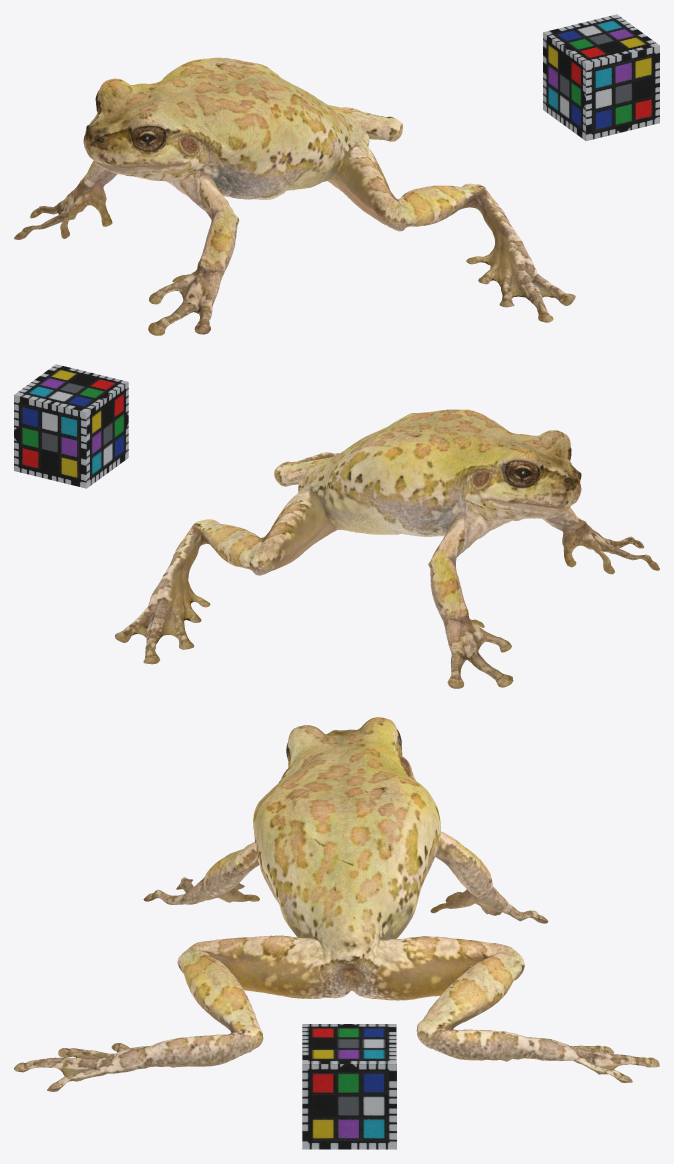
The model's file is tree-frog.glb.
The picture shows the model from 3 angles, top to bottom: view 1: azimuth 30°, elevation 25°; view 2: azimuth 150°, elevation 25°; view 3: azimuth 270°, elevation 25°; orthographic projection. The views are drawn at different scales.
Visible parts, largest first — view 1: Object_6, Object_4; view 2: Object_6, Object_4; view 3: Object_6, Object_4.
Part boxes in pixels (left/top/right/bottom): Object_6: left=14, top=57, right=575, bottom=335; Object_4: left=543, top=14, right=659, bottom=140; Object_6: left=115, top=409, right=659, bottom=688; Object_4: left=14, top=364, right=128, bottom=488; Object_6: left=14, top=717, right=659, bottom=1091; Object_4: left=302, top=1024, right=396, bottom=1149.
Bounding box in the file's own units: 0.0759 × 0.0245 × 0.0683.
2 materials, 2 textured.
